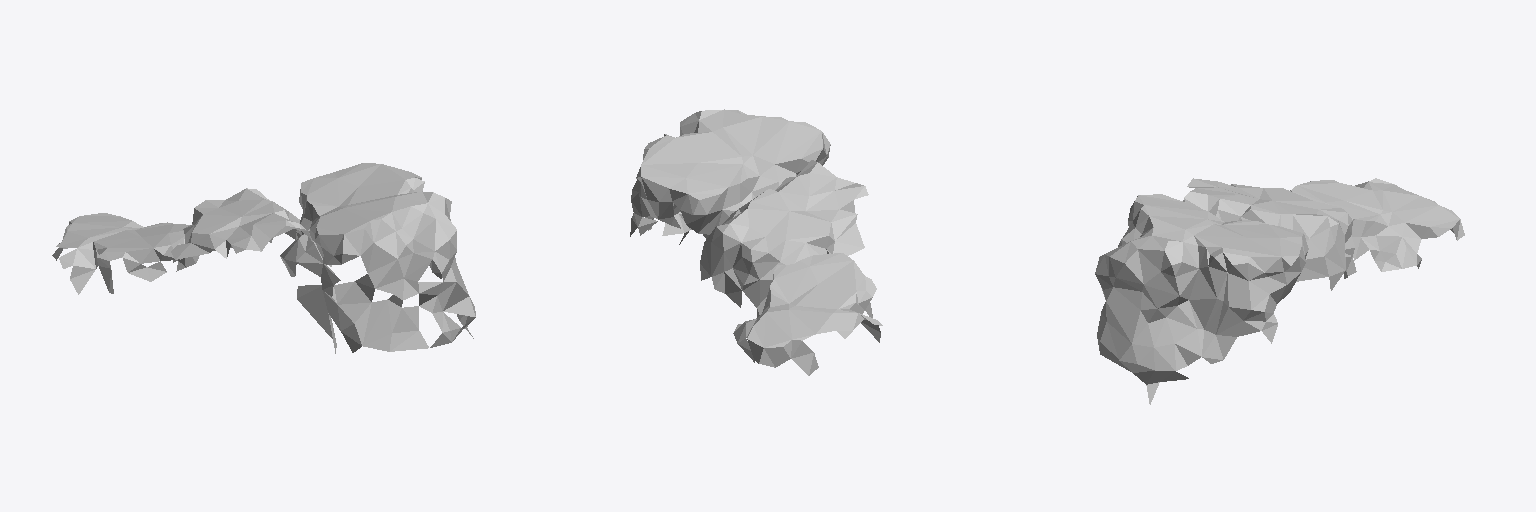
The model's file is Curved 1.obj.
3 renders of one model, left to right at view 1: azimuth 30°, elevation 25°; view 2: azimuth 150°, elevation 25°; view 3: azimuth 270°, elevation 25°, orthographic.
Parts seen in each view (by area): view 1: SM_RockRamp_Curved_01; view 2: SM_RockRamp_Curved_01; view 3: SM_RockRamp_Curved_01.
Boxes of the visible parts, <box> form: SM_RockRamp_Curved_01: <box>52,163,475,353</box>; SM_RockRamp_Curved_01: <box>630,109,882,375</box>; SM_RockRamp_Curved_01: <box>1095,178,1464,404</box>.
Size of the model in its own units: 2732 by 1268 by 2839.